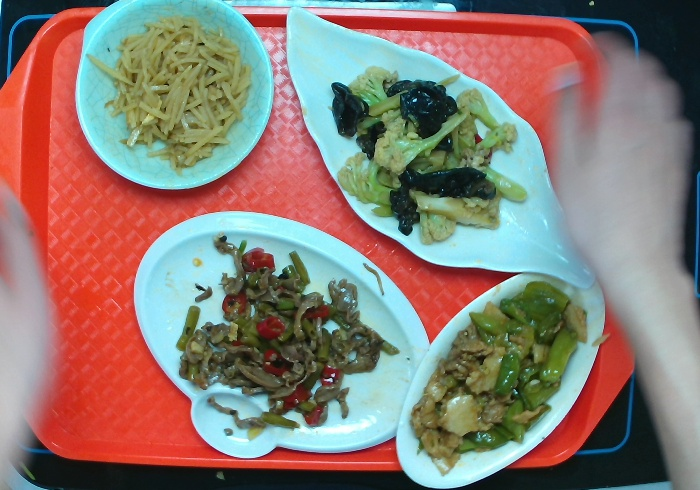RJxy-Bai_Se_Tuo_Yuan: (388, 267, 614, 490)
RJxy-Shu_Ye_Pan: (278, 1, 605, 296)
RJxy-Xiao_Jiao_Yuan_Wan: (71, 1, 281, 189)
RJxy-Zhan_Liao_Pan: (128, 205, 431, 465)
